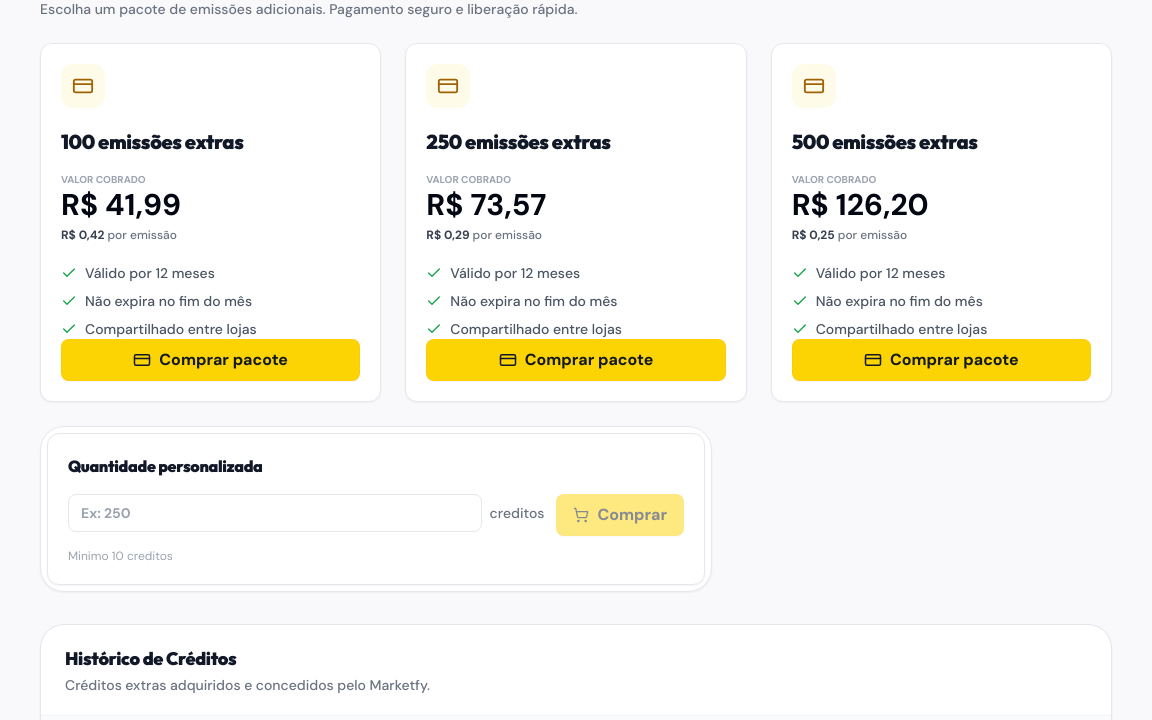
Test case: FiscalCredits › shows loading phases and disables button during checkout polling
(page scrolled)
Click the button "Comprar pacote" below "R$ 0,29" at (576, 360), box 426,339 -> 726,381
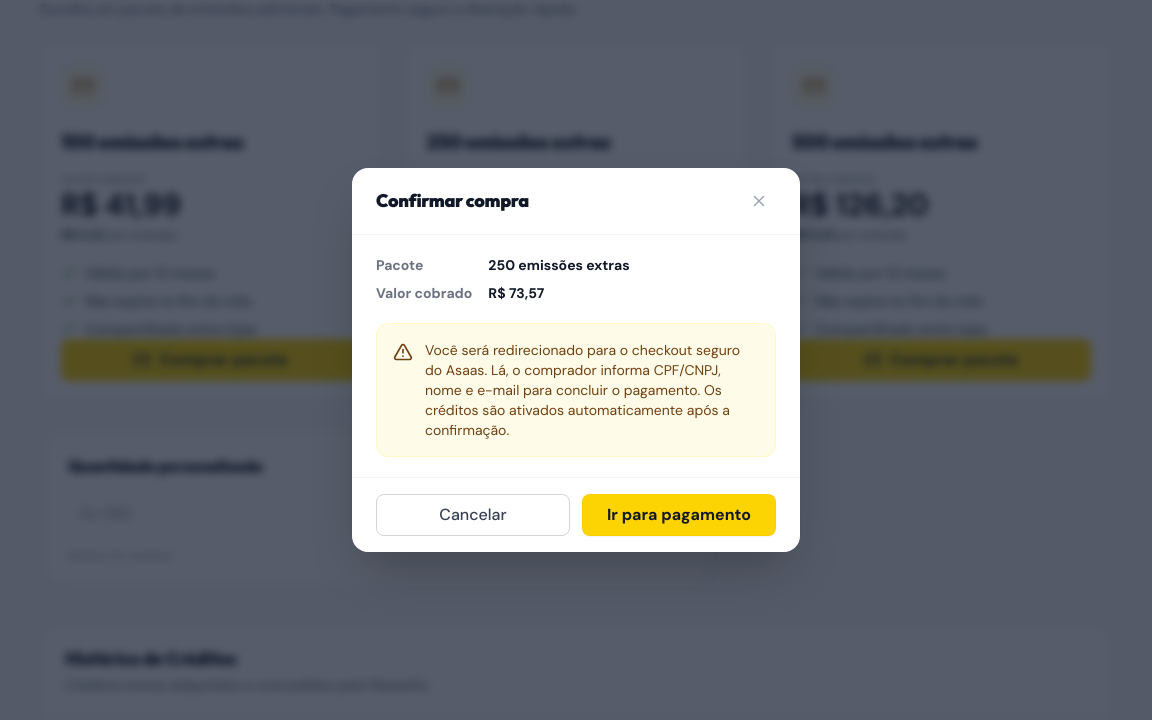
Click the button "Ir para pagamento" at (679, 515), box 582,494 -> 776,536
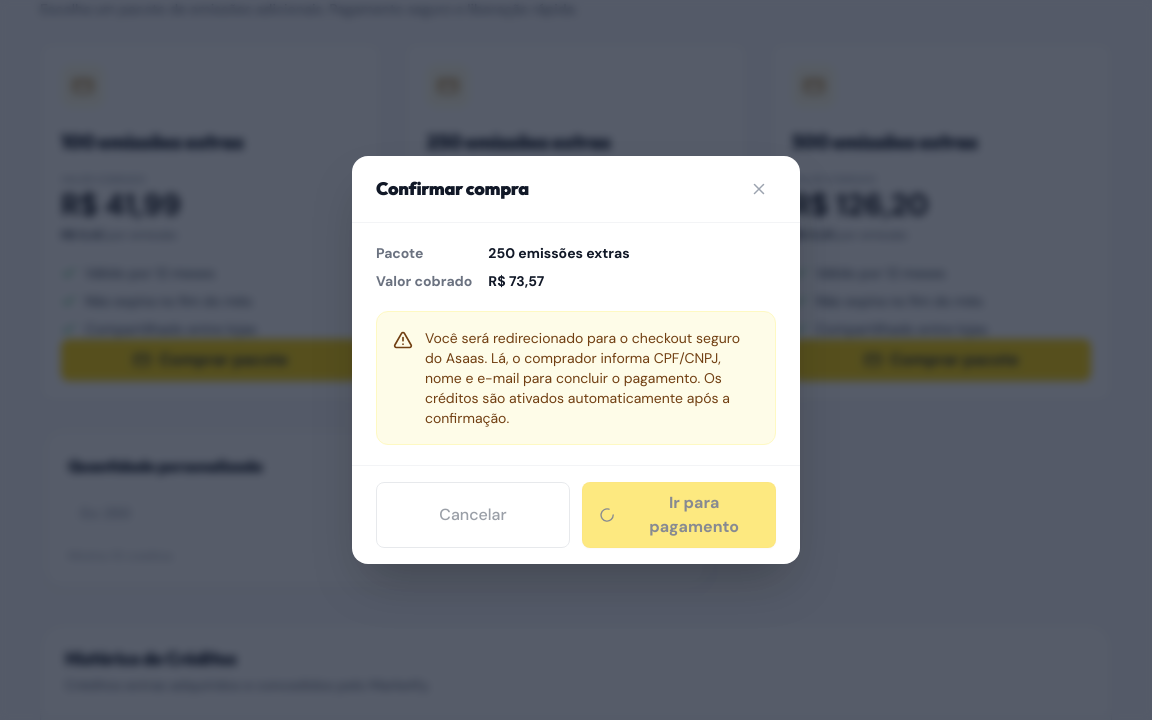
Check: the button "Ir para pagamento" is disabled, box 582,482 -> 776,548
